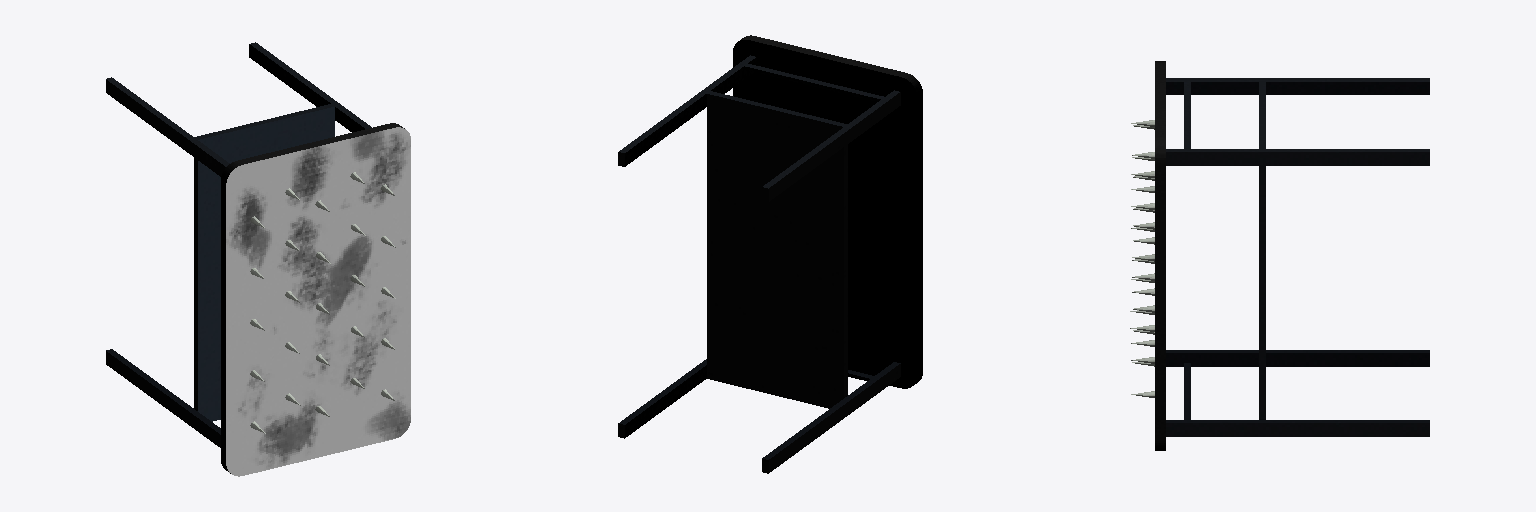
3 views of the same model, side by side, from view 1: azimuth 30°, elevation 25°; view 2: azimuth 150°, elevation 25°; view 3: azimuth 270°, elevation 25° (orthographic).
Visible parts, largest first — view 1: tabpiano, tablegam, tablepun; view 2: tablegam, tabpiano; view 3: tablegam, tabpiano, tablepun.
Boxes of the visible parts, x1=… form: tabpiano: x1=221, y1=123, x2=410, y2=476; tablegam: x1=106, y1=42, x2=371, y2=447; tablepun: x1=250, y1=172, x2=395, y2=433; tablegam: x1=618, y1=55, x2=900, y2=473; tabpiano: x1=733, y1=35, x2=922, y2=388; tablegam: x1=1166, y1=78, x2=1429, y2=436; tabpiano: x1=1155, y1=61, x2=1165, y2=450; tablepun: x1=1130, y1=120, x2=1154, y2=397.
Bounding box in the file's own units: 56.69 × 91.09 × 79.45.
Materials: 3 (3 with a texture image).